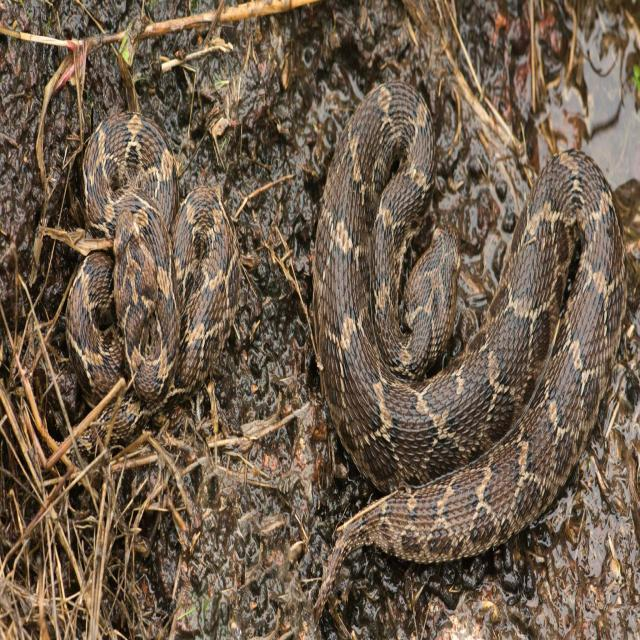Snake: (310, 77, 627, 612), (65, 101, 244, 439)
